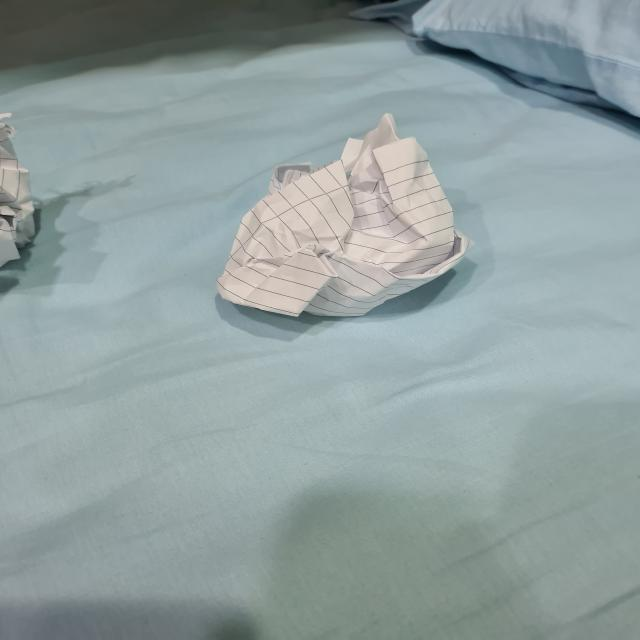Paper: (217, 106, 470, 329)
